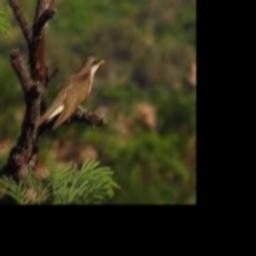Cuckoo: (36, 54, 106, 130)
